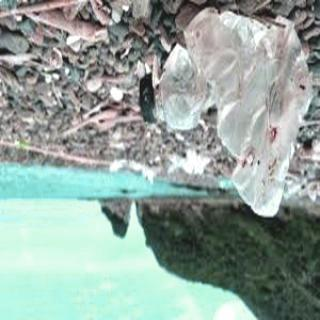Plastic: (139, 33, 232, 130)
Trash: (185, 0, 315, 220)
